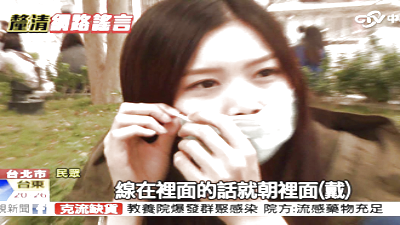mask_weared_incorrect: (174, 47, 300, 169)
